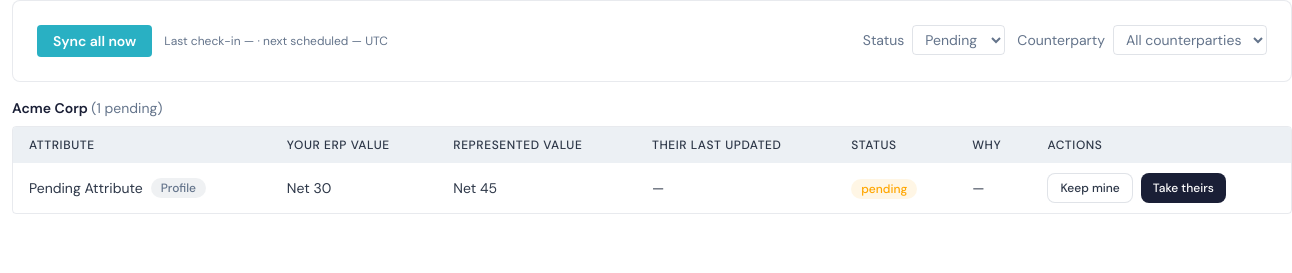
Scenario: CounterpartyUpdatesTab › filter changes the query string and rows reflect the new response
The image size is (1292, 273).
Expected: the text "Pending Attribute" is shown, [29,178,143,198]
Expected: the text "Kept Attribute" is not shown
Select "All" in the dropdown labelled "Status" at (959, 40), box [912,25,1005,55]
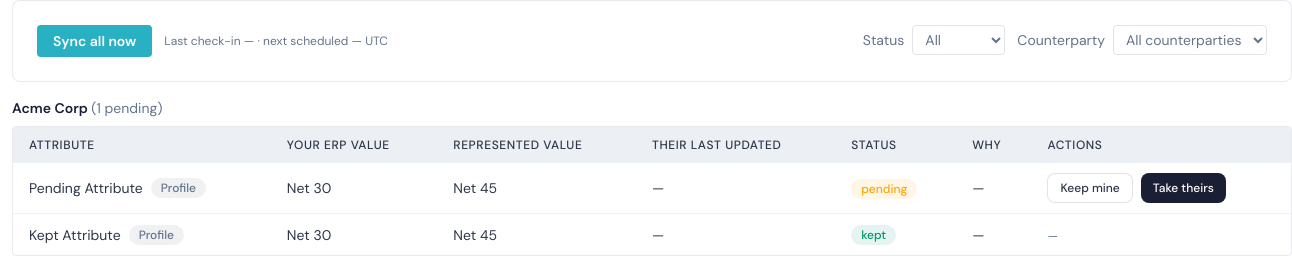
Expected: the text "Kept Attribute" is shown, [29,224,121,244]
